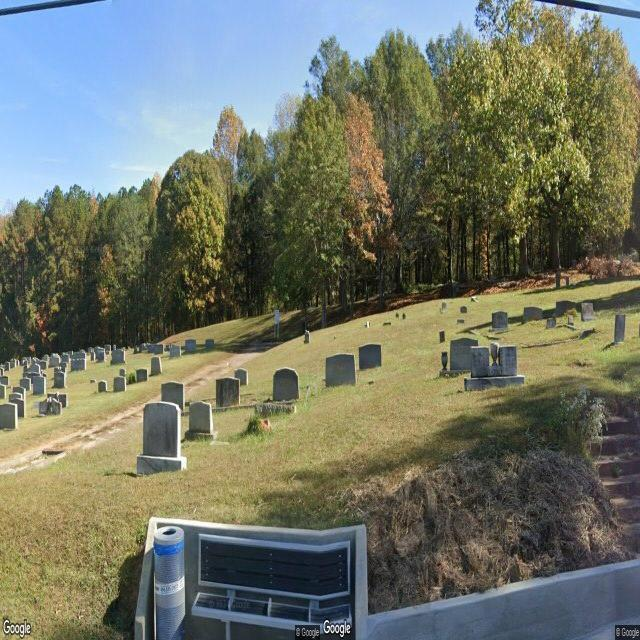seating: (191, 533, 352, 640)
trash_can: (154, 525, 186, 640)
